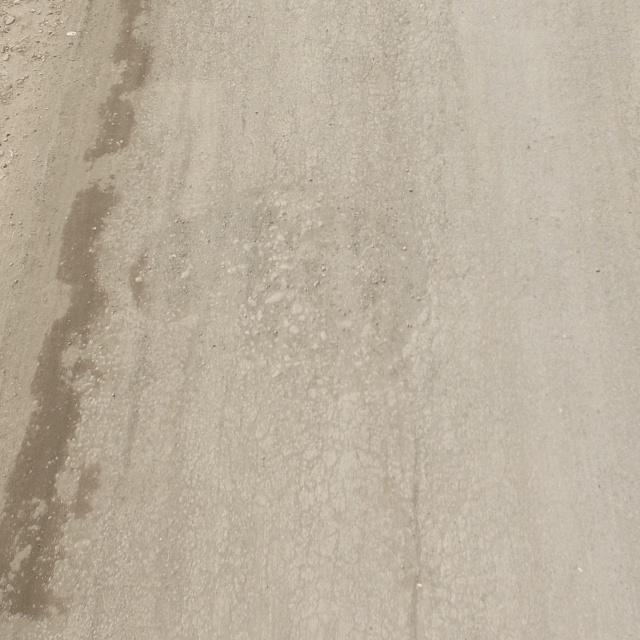BACHE: (128, 196, 436, 374)
PIEL DE COCODRILO: (199, 346, 490, 639), (374, 0, 457, 196)
